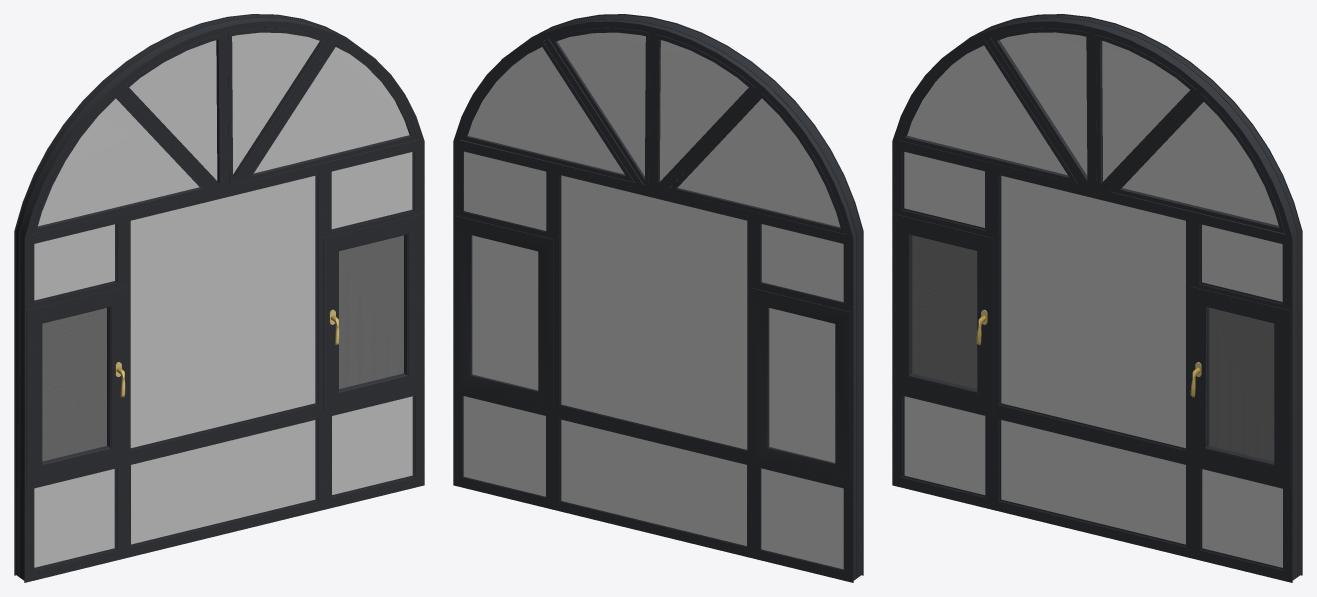
The model's file is win.fbx.
The picture shows the model from 3 angles, left to right: view 1: azimuth 30°, elevation 25°; view 2: azimuth 150°, elevation 25°; view 3: azimuth 330°, elevation 25°; orthographic projection.
Visible parts, largest first — view 1: Arc001; view 2: Arc001; view 3: Arc001.
Part boxes in pixels (left/top/right/bottom): Arc001: left=14, top=14, right=424, bottom=582; Arc001: left=453, top=14, right=863, bottom=582; Arc001: left=892, top=14, right=1302, bottom=582.
Size of the model in its own units: 2238 by 2708 by 173.
4 materials, 4 textured.
